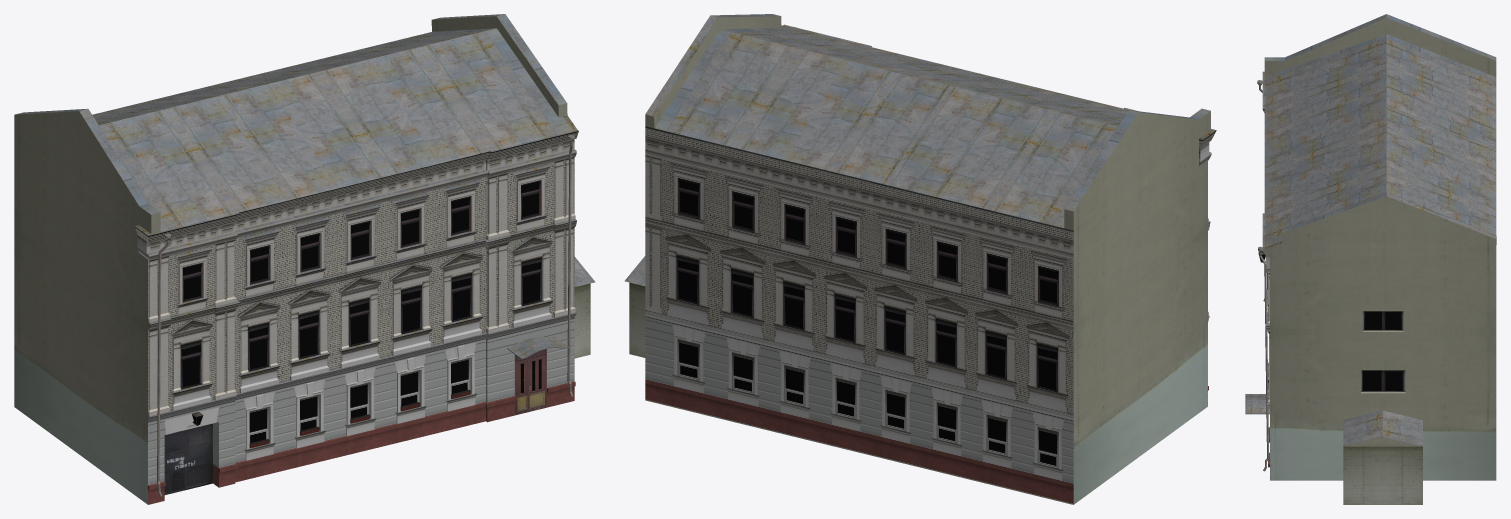
The model's file is kadashevskeaya_10_moscow_russia.glb.
3 renders of one model, left to right at view 1: azimuth 30°, elevation 25°; view 2: azimuth 150°, elevation 25°; view 3: azimuth 270°, elevation 25°, orthographic. The views are drawn at different scales.
Parts seen in each view (by area): view 1: Rectangle02; view 2: Rectangle02; view 3: Rectangle02.
Boxes of the visible parts, x1,y1,x2,y2 form: Rectangle02: [14, 14, 595, 504]; Rectangle02: [624, 14, 1216, 504]; Rectangle02: [1245, 14, 1496, 504].
Size of the model in its own units: 2.58 by 1.71 by 1.34.
1 material, 1 textured.
